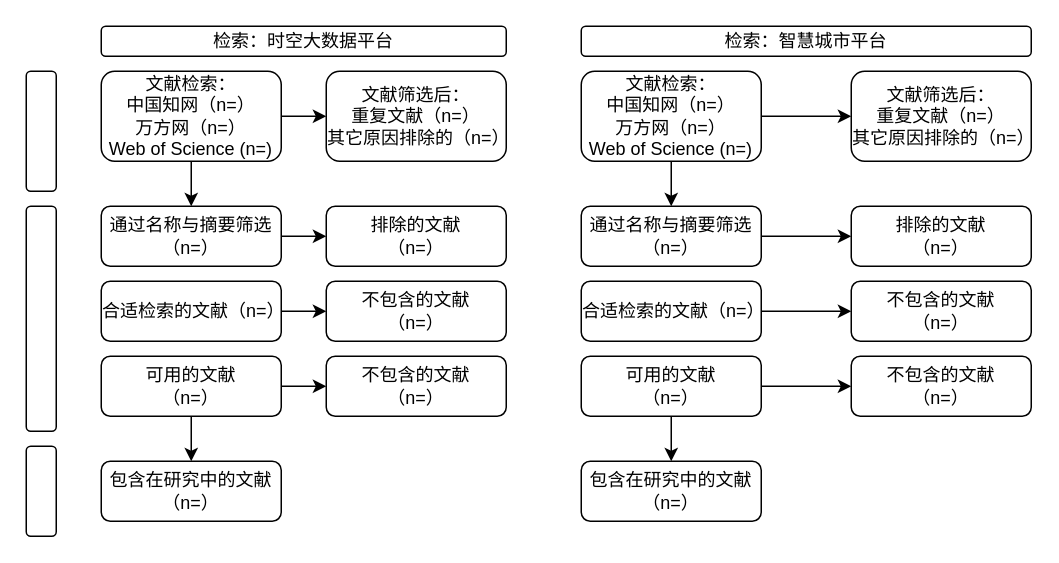
This 1059x563 diagram has some shape labels left out. The centre of each missing label's shape, as x and y in pixels:
包括: point (40, 490)
检索: point (40, 130)
筛选: point (40, 318)
